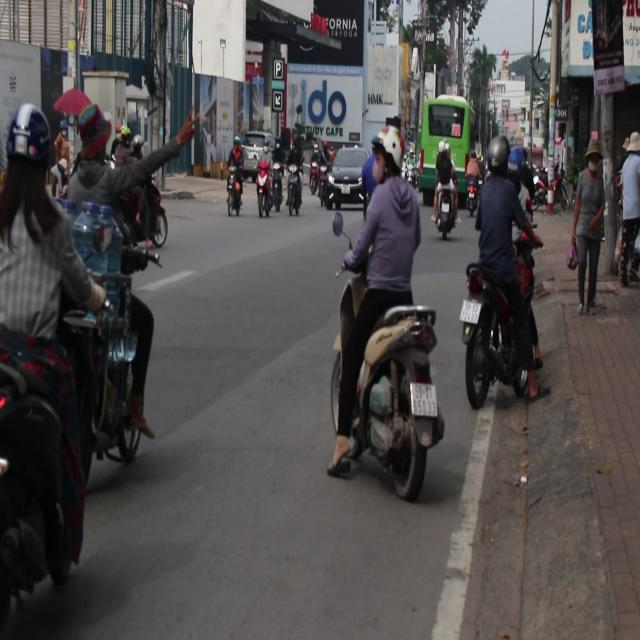bus: (422, 104, 473, 204)
car: (320, 146, 372, 211), (239, 124, 271, 174)
motorbike: (1, 310, 88, 613), (325, 266, 428, 514), (54, 280, 162, 458), (458, 264, 548, 417), (212, 153, 243, 221), (432, 174, 462, 241), (462, 177, 487, 227), (286, 160, 302, 213), (253, 160, 269, 212), (268, 159, 284, 209)
